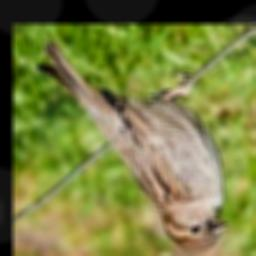Sparrow: (37, 42, 229, 252)
